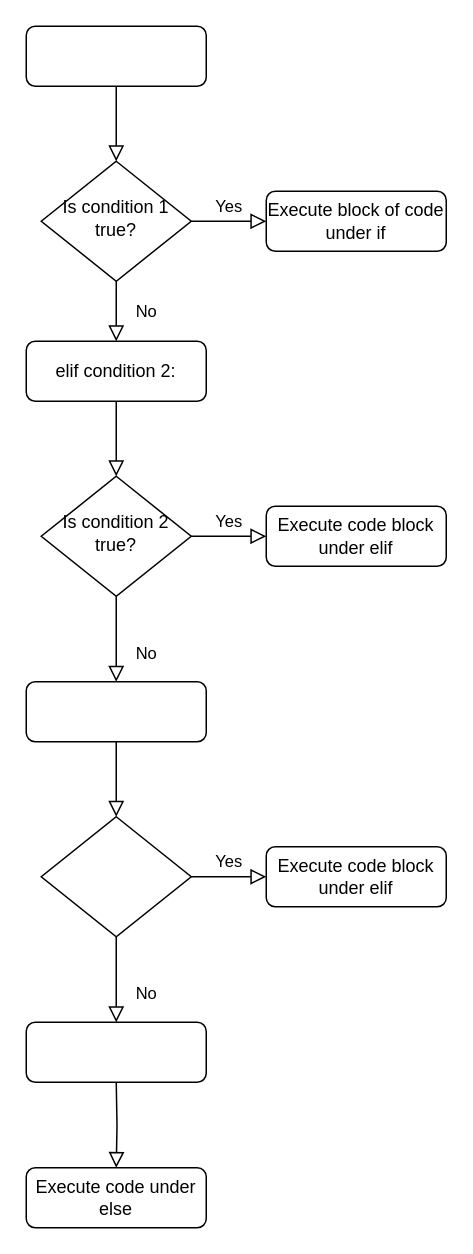
Some shapes in this 473 by 1254 pixel diagram are drawn without their labels. The centre of each missing label's shape, as x and y in pixels:
elif condition 3:: (115,711)
else:: (115,1051)
if condition 1:: (115,55)
Is condition 3 true?: (115,876)
